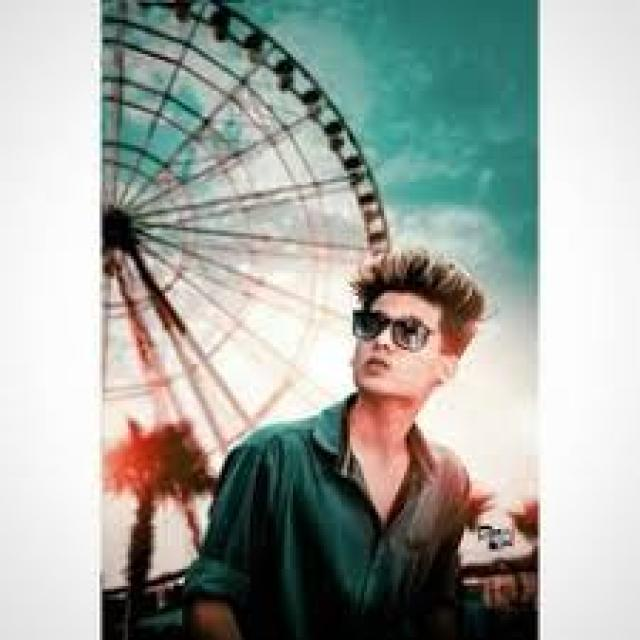Edited images: (180, 232, 523, 640)
